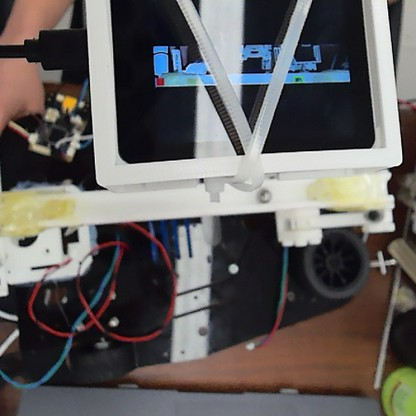ironball: (253, 185, 274, 204)
